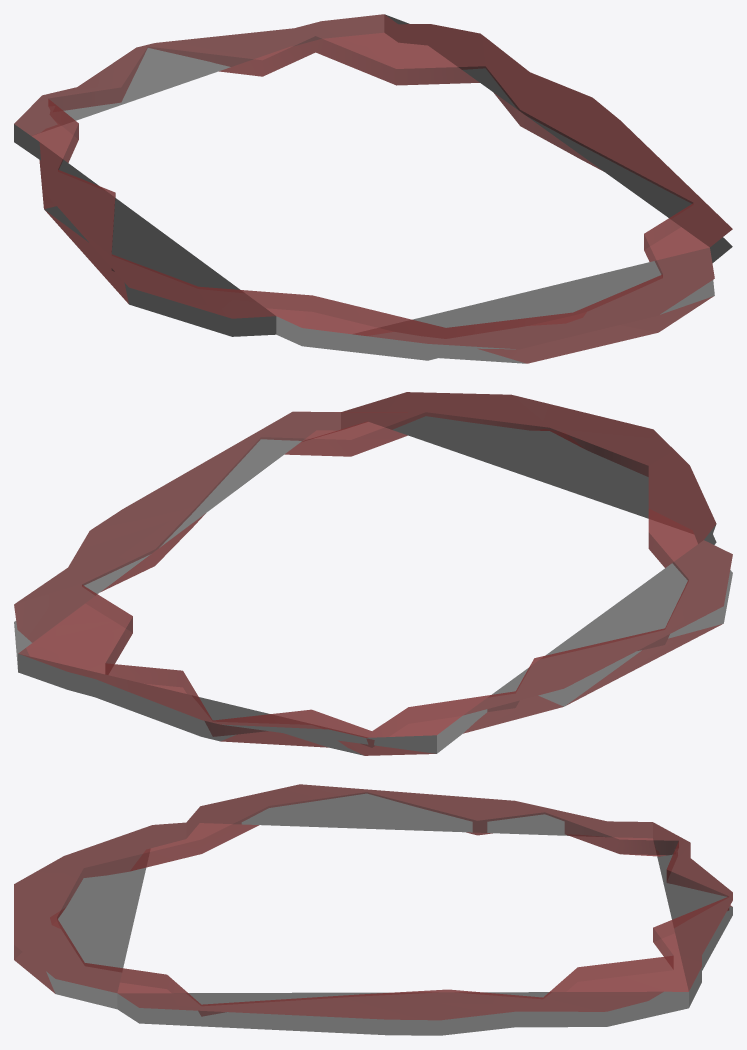
File: Portal.fbx
The picture shows the model from 3 angles, top to bottom: view 1: azimuth 30°, elevation 25°; view 2: azimuth 150°, elevation 25°; view 3: azimuth 270°, elevation 25°; orthographic projection. The views are drawn at different scales.
Visible parts, largest first — view 1: pCube23; view 2: pCube23; view 3: pCube23.
Part boxes in pixels (x1=…): pCube23: x1=14, y1=14, x2=732, y2=363; pCube23: x1=14, y1=392, x2=732, y2=755; pCube23: x1=14, y1=784, x2=732, y2=1035.
Size of the model in its own units: 28.14 by 1.08 by 36.29.
